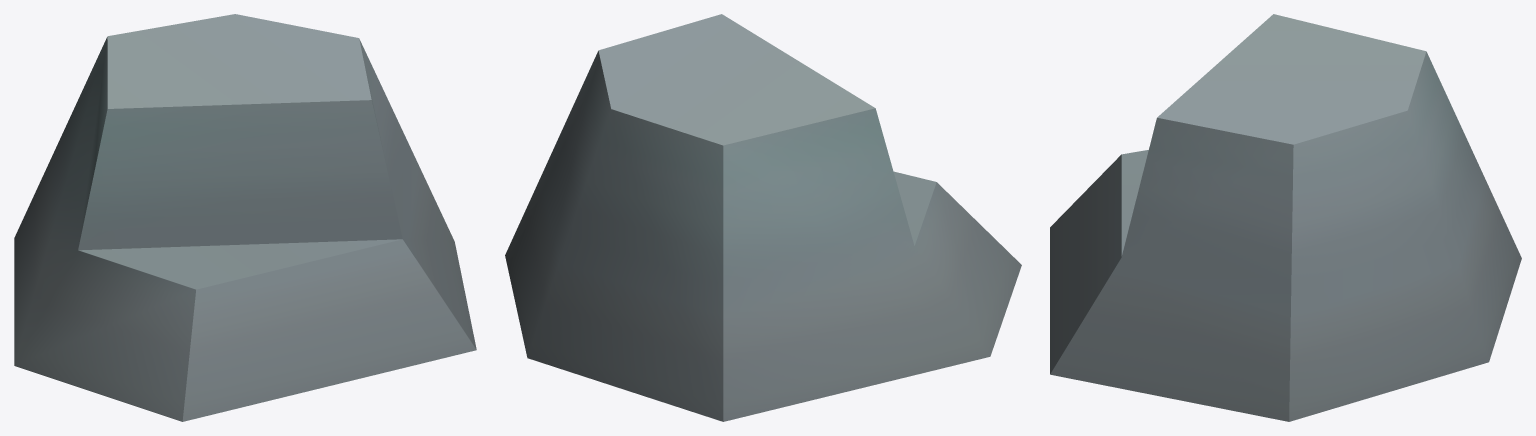
Rendered from rock_single_B.glb.
3 views of the same model, side by side, from view 1: azimuth 30°, elevation 25°; view 2: azimuth 150°, elevation 25°; view 3: azimuth 270°, elevation 25° (orthographic). The views are drawn at different scales.
Parts seen in each view (by area): view 1: rock_single_B; view 2: rock_single_B; view 3: rock_single_B.
Boxes of the visible parts, <box> form: rock_single_B: <box>14,14,476,421</box>; rock_single_B: <box>505,14,1021,421</box>; rock_single_B: <box>1050,14,1521,421</box>.
Bounding box in the file's own units: 0.2866 × 0.1346 × 0.2497.
1 material, 1 textured.
